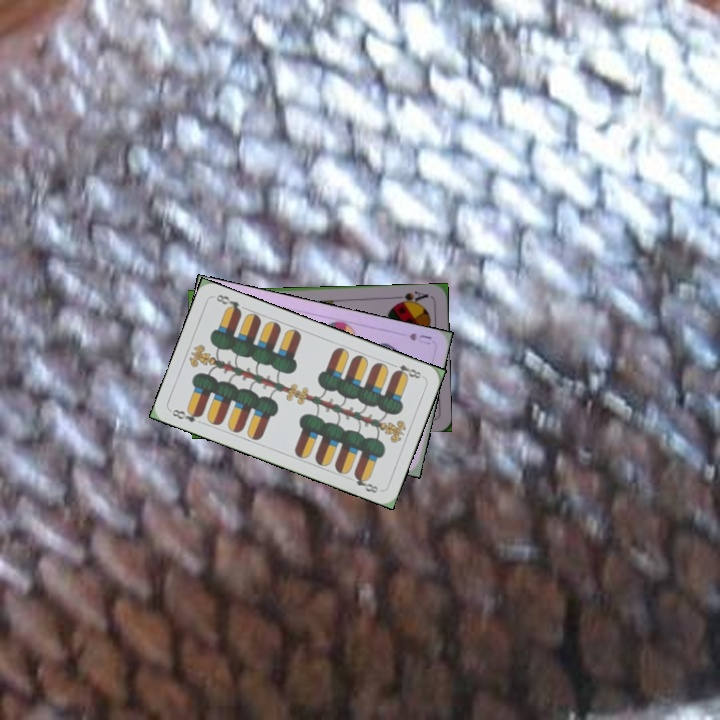E8: (387, 359, 424, 381), (168, 405, 204, 425)
SA: (391, 287, 430, 307)
SU: (405, 329, 434, 347)
